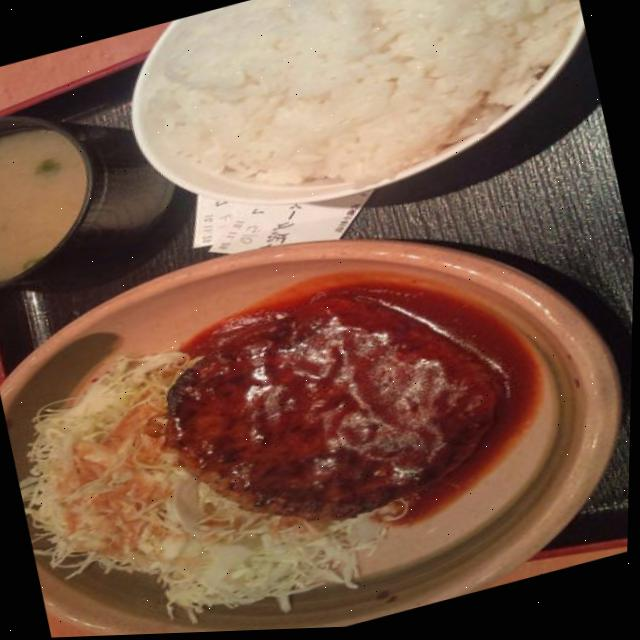汤锅炖物: (0, 90, 151, 311)
米饭主食: (102, 0, 607, 245)
